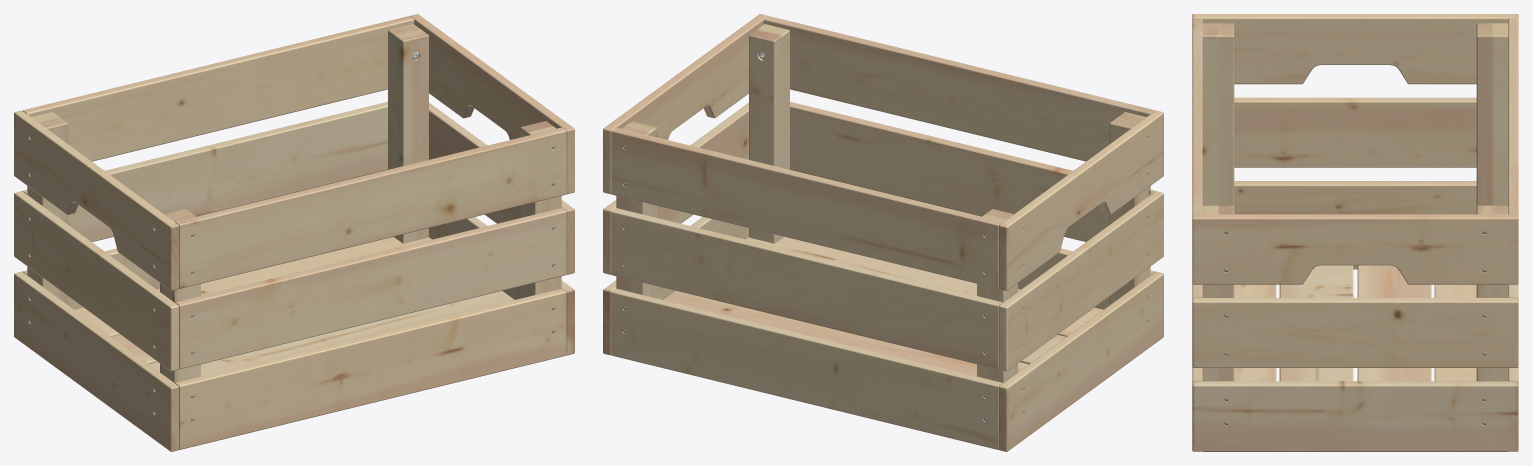
The model's file is 21 - KNAGGLIG Box - pine 46x31x25 cm.glb.
3 renders of one model, left to right at view 1: azimuth 30°, elevation 25°; view 2: azimuth 150°, elevation 25°; view 3: azimuth 270°, elevation 25°, orthographic. The views are drawn at different scales.
Size of the model in its own units: 0.46 by 0.25 by 0.31.
1 material, 1 textured.
